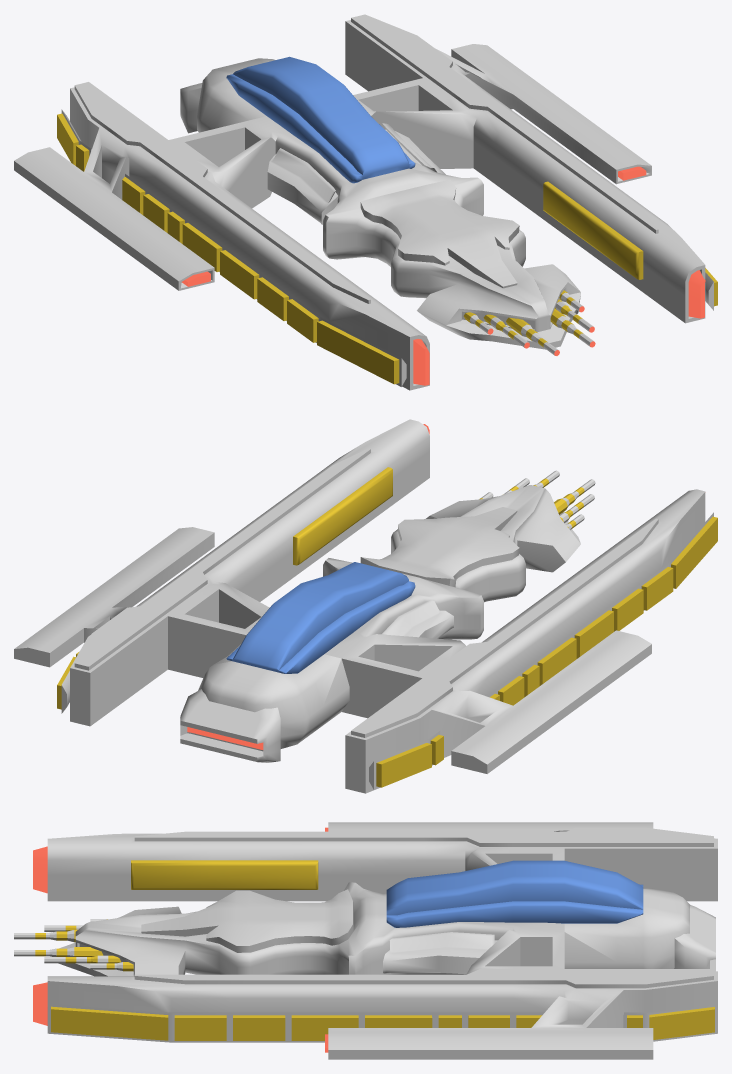
Rendered from StarShip_2.fbx.
3 renders of one model, top to bottom at view 1: azimuth 30°, elevation 25°; view 2: azimuth 150°, elevation 25°; view 3: azimuth 270°, elevation 25°, orthographic.
Parts seen in each view (by area): view 1: StarShip_2; view 2: StarShip_2; view 3: StarShip_2.
Part boxes in pixels (bbox=[...]): StarShip_2: bbox=[14, 14, 717, 390]; StarShip_2: bbox=[14, 419, 717, 793]; StarShip_2: bbox=[14, 822, 717, 1059].
Bounding box in the file's own units: 1119 × 237 × 1462.
